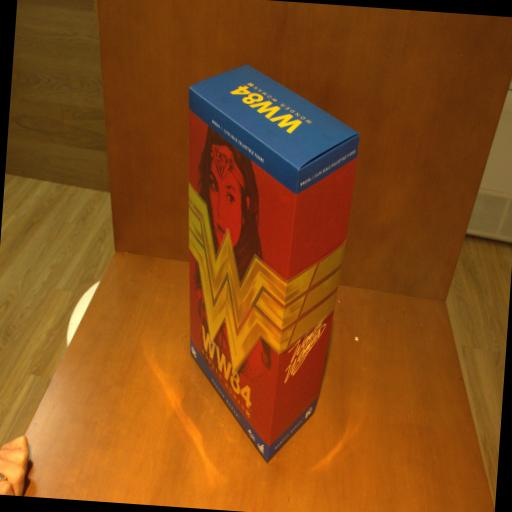WonderWoman: (164, 57, 364, 464)
